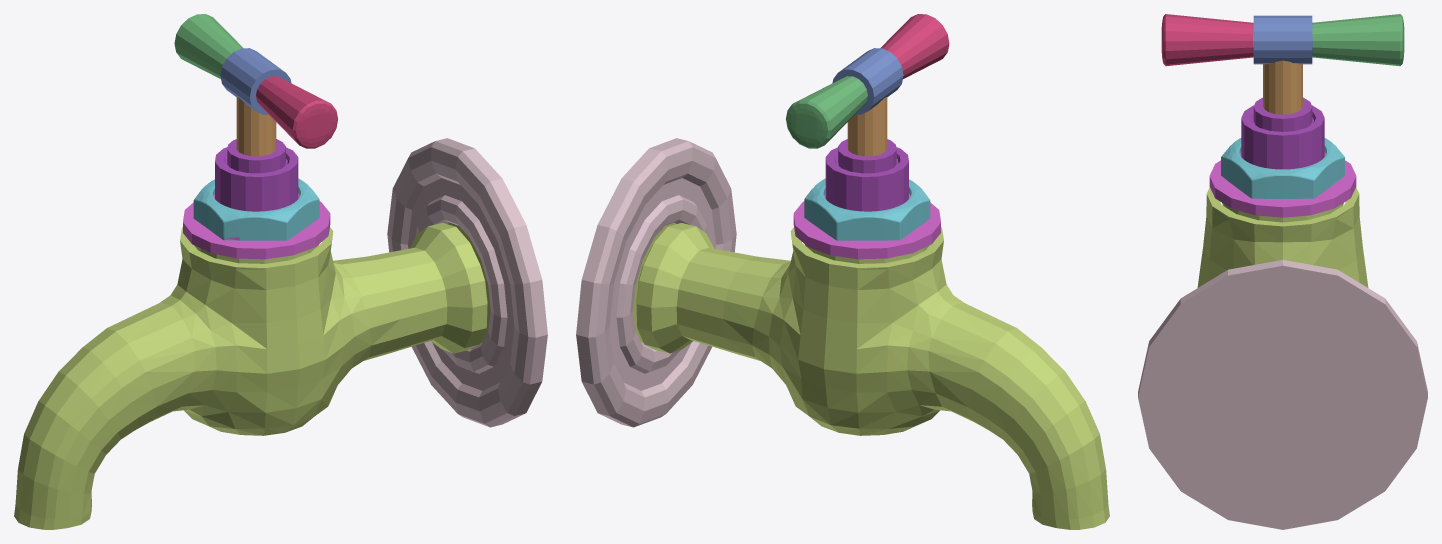
Rendered from full_19.glb.
3 renders of one model, left to right at view 1: azimuth 30°, elevation 25°; view 2: azimuth 150°, elevation 25°; view 3: azimuth 270°, elevation 25°, orthographic.
Visible parts, largest first — view 1: world; view 2: world; view 3: world.
Part boxes in pixels (left/top/right/bottom): world: left=14, top=14, right=547, bottom=529; world: left=576, top=14, right=1109, bottom=529; world: left=1138, top=14, right=1427, bottom=529.
Bounding box in the file's own units: 0.6995 × 0.6006 × 0.3873.
